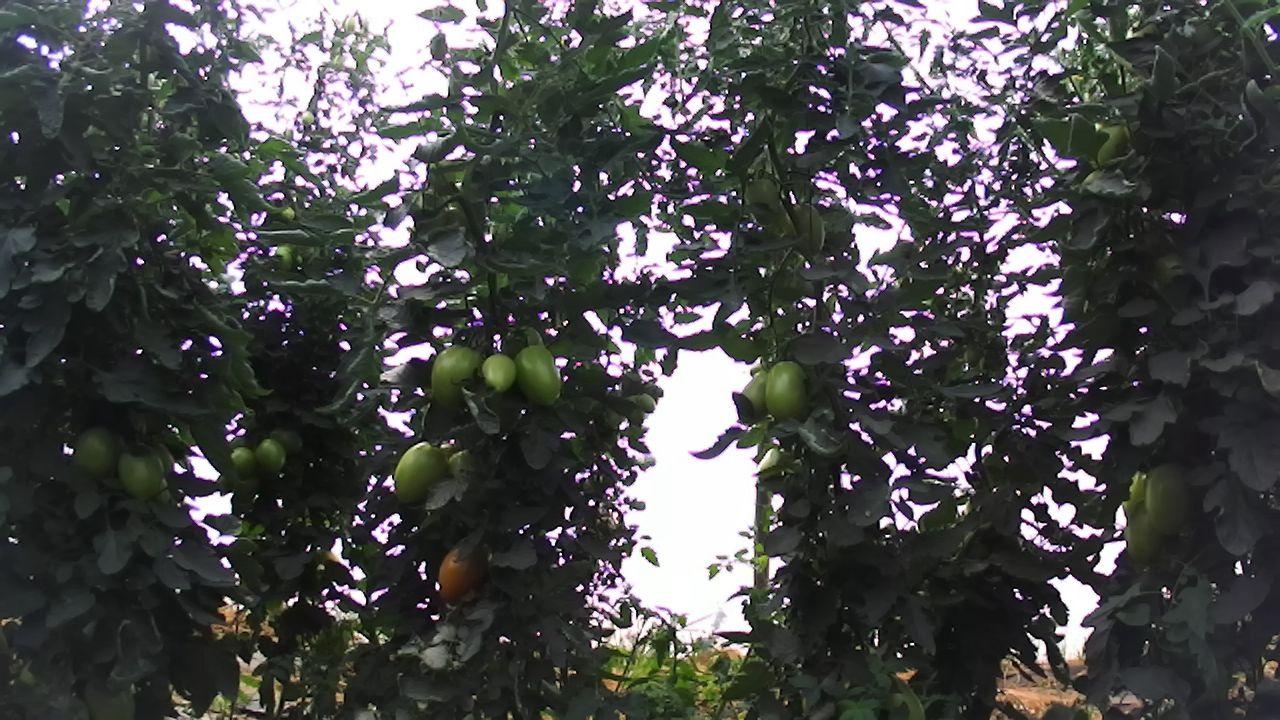tomato: (427, 343, 486, 414), (1142, 460, 1195, 538), (393, 439, 453, 506), (66, 425, 126, 484), (435, 540, 489, 605), (763, 357, 811, 425), (513, 343, 563, 408), (1122, 498, 1167, 567), (119, 440, 167, 504), (480, 353, 518, 394), (265, 422, 305, 457), (253, 437, 287, 474), (226, 444, 259, 481)
